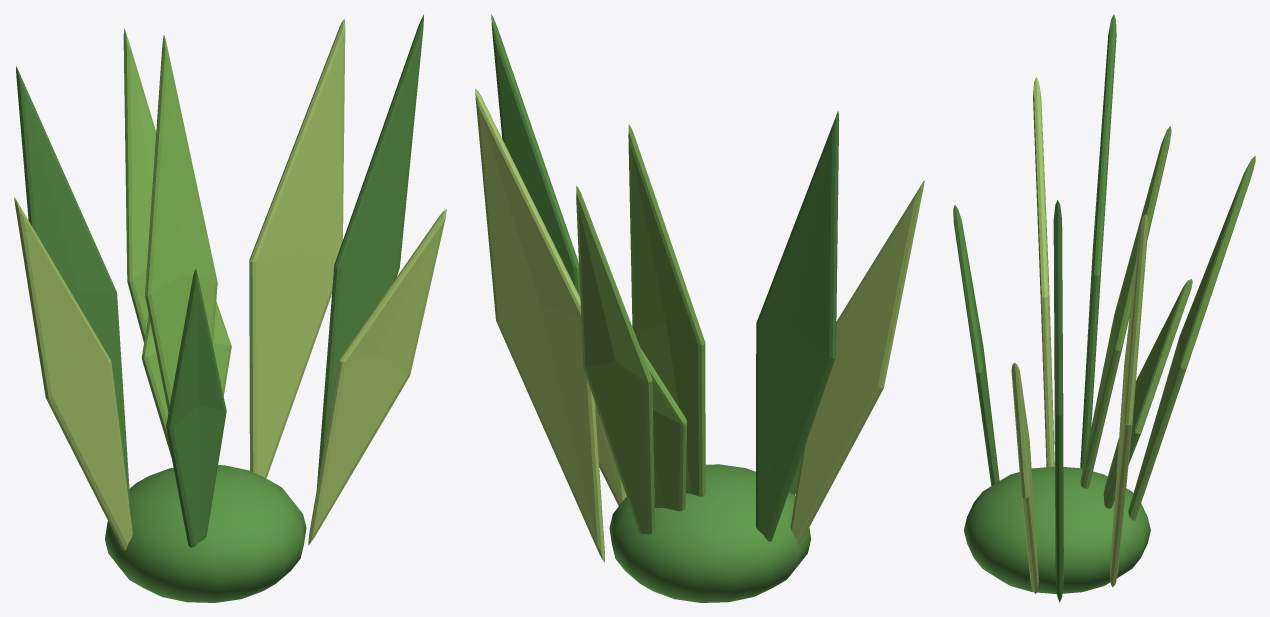
Rendered from Grass_Clump_A.fbx.
3 renders of one model, left to right at view 1: azimuth 30°, elevation 25°; view 2: azimuth 150°, elevation 25°; view 3: azimuth 270°, elevation 25°, orthographic. The views are drawn at different scales.
Parts seen in each view (by area): view 1: Grass_Blade_02, Grass_Base, Grass_Blade_05, Grass_Blade_08, Grass_Blade_06, Grass_Blade_07, Grass_Blade_00, Grass_Blade_03, Grass_Blade_01, Grass_Blade_04; view 2: Grass_Blade_02, Grass_Blade_00, Grass_Base, Grass_Blade_05, Grass_Blade_01, Grass_Blade_07, Grass_Blade_06, Grass_Blade_04, Grass_Blade_08; view 3: Grass_Base, Grass_Blade_01, Grass_Blade_00, Grass_Blade_02, Grass_Blade_07, Grass_Blade_05, Grass_Blade_06, Grass_Blade_04, Grass_Blade_03, Grass_Blade_08.
Part boxes in pixels (x1,y1,x2,y2): Grass_Blade_02: (249, 18, 345, 478); Grass_Base: (105, 465, 306, 602); Grass_Blade_05: (14, 197, 132, 550); Grass_Blade_08: (308, 209, 446, 544); Grass_Blade_06: (316, 14, 423, 489); Grass_Blade_07: (145, 35, 217, 412); Grass_Blade_00: (16, 66, 130, 504); Grass_Blade_03: (166, 268, 226, 547); Grass_Blade_01: (123, 28, 156, 342); Grass_Blade_04: (141, 301, 231, 457); Grass_Blade_02: (475, 88, 604, 562); Grass_Blade_00: (756, 111, 839, 541); Grass_Base: (609, 464, 811, 602); Grass_Blade_05: (790, 180, 924, 545); Grass_Blade_01: (576, 186, 655, 534); Grass_Blade_07: (628, 124, 705, 496); Grass_Blade_06: (491, 14, 580, 296); Grass_Blade_04: (597, 348, 687, 511); Grass_Blade_08: (595, 403, 626, 505); Grass_Base: (964, 466, 1150, 594); Grass_Blade_01: (1128, 156, 1255, 520); Grass_Blade_00: (1080, 14, 1116, 468); Grass_Blade_02: (1109, 214, 1148, 587); Grass_Blade_07: (1080, 126, 1171, 488); Grass_Blade_05: (1033, 77, 1054, 467); Grass_Blade_06: (1053, 200, 1063, 602); Grass_Blade_04: (1103, 279, 1192, 508); Grass_Blade_03: (953, 205, 999, 485); Grass_Blade_08: (1011, 362, 1038, 593).
Size of the model in its own units: 95.69 by 117 by 64.67.
